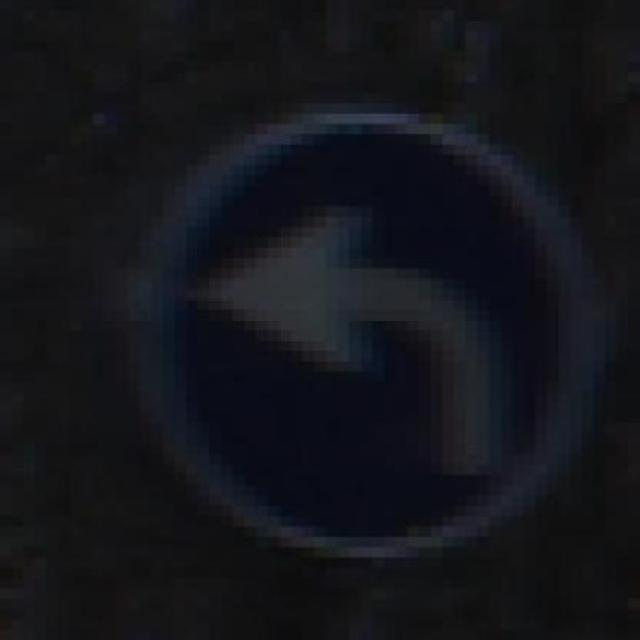Turn left ahead: (81, 92, 617, 568)
